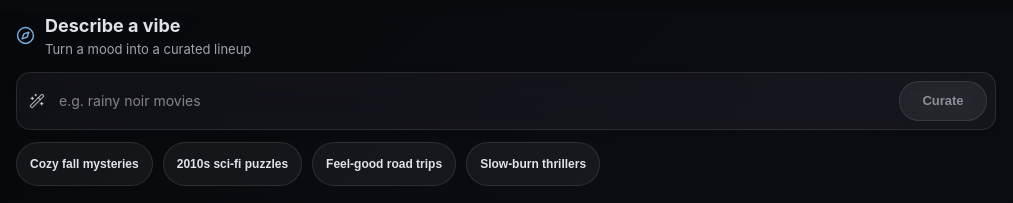
Test: MoodStrip › disables Curate until the prompt has non-whitespace text
The image size is (1013, 203).
Expected: the button "Curate" is disabled, 899,80 -> 987,120
Type "rainy noir" into the field at (474, 100), box 57,84 -> 891,118
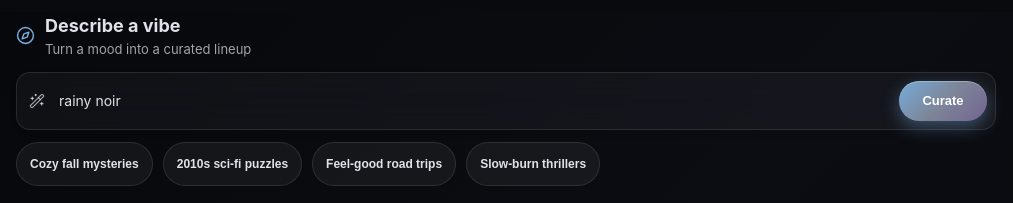
Result: the button "Curate" is enabled at 899,80 -> 987,120
